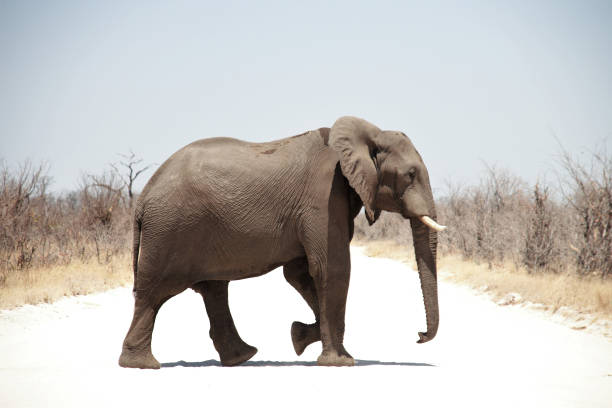africanelephant: (324, 128, 450, 250)
